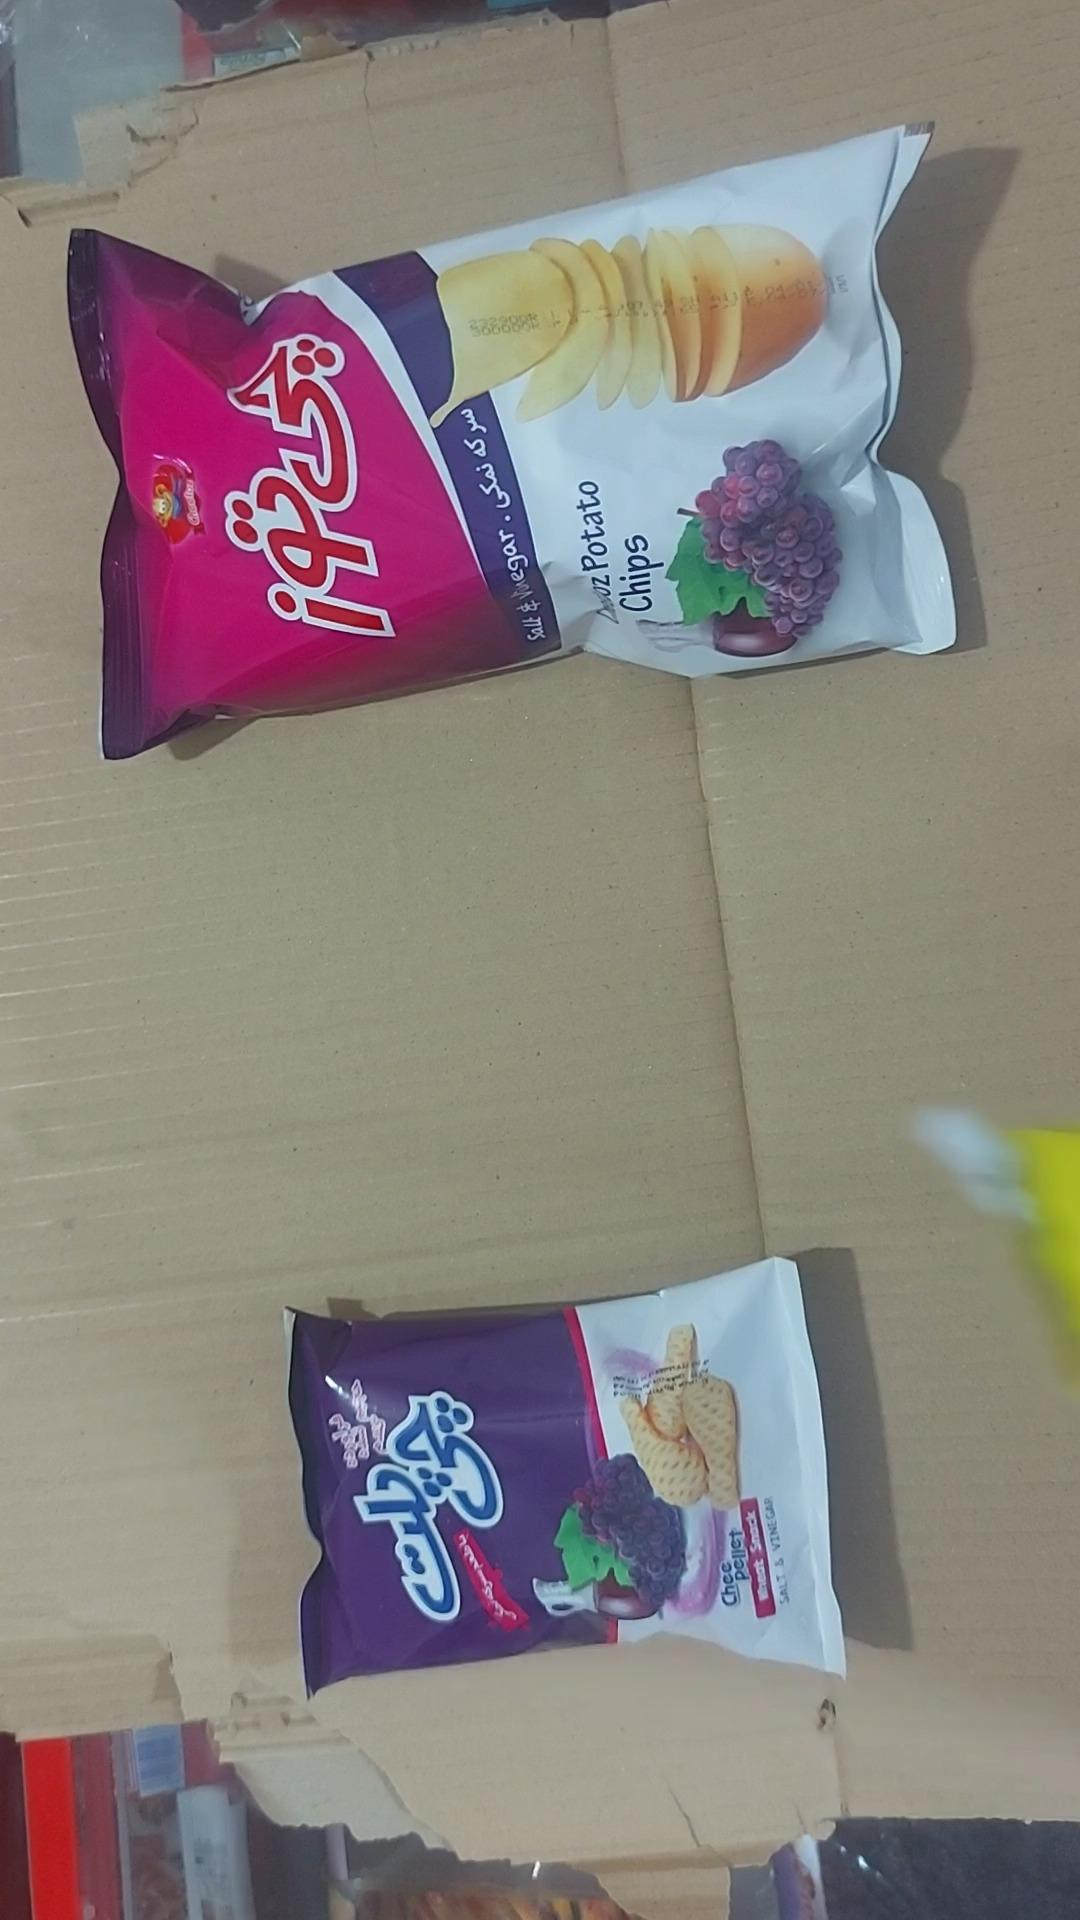Chee pellet vinegar: (287, 1258, 845, 1697)
Cheetoz vinegar chips: (65, 119, 960, 764)
